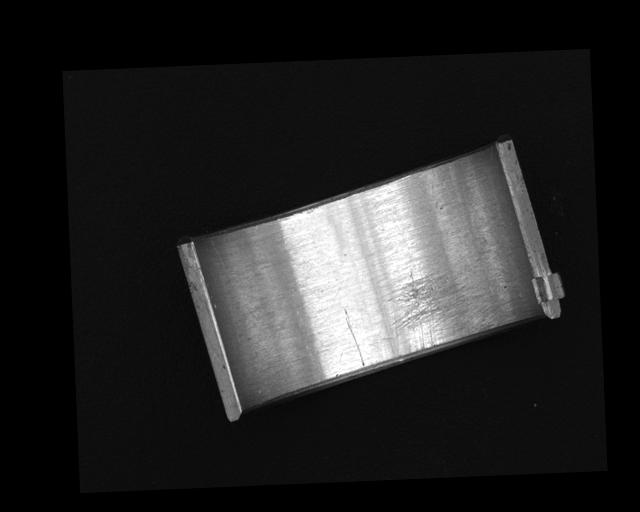nick: (211, 234, 255, 319), (343, 308, 365, 367)
scratch: (389, 267, 496, 357)
